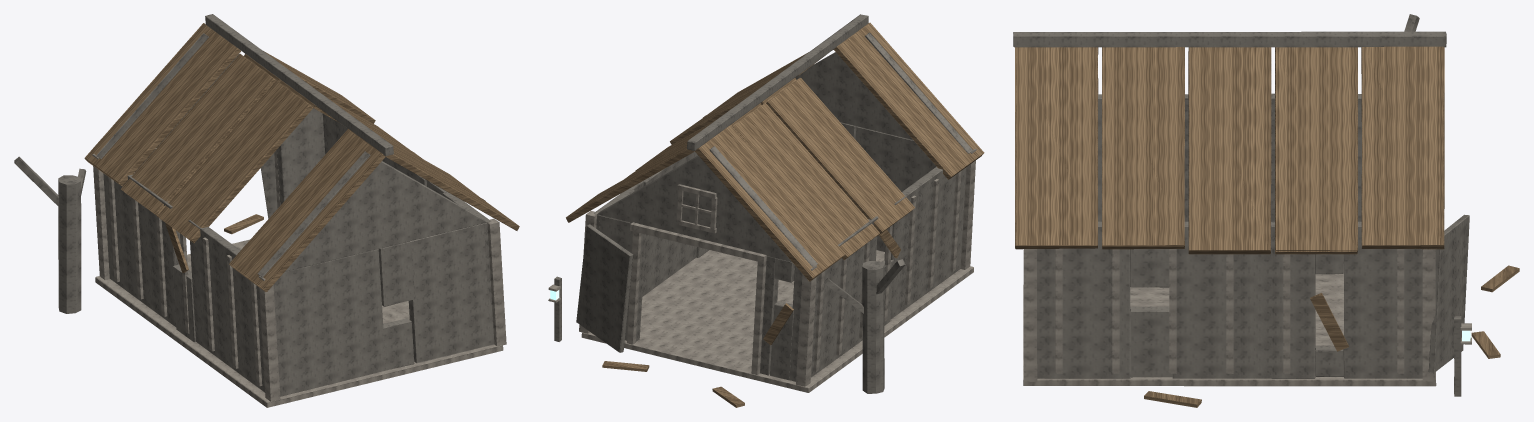
Rendered from haunted_barn.glb.
3 views of the same model, side by side, from view 1: azimuth 30°, elevation 25°; view 2: azimuth 150°, elevation 25°; view 3: azimuth 270°, elevation 25° (orthographic). The views are drawn at different scales.
Visible parts, largest first — view 1: HauntedBarn; view 2: HauntedBarn; view 3: HauntedBarn.
Part boxes in pixels (x1=…): HauntedBarn: x1=14, y1=14, x2=519, y2=407; HauntedBarn: x1=548, y1=14, x2=984, y2=407; HauntedBarn: x1=1013, y1=14, x2=1519, y2=407.
Bounding box in the file's own units: 9.94 × 6.15 × 9.96.
4 materials, 3 textured.
